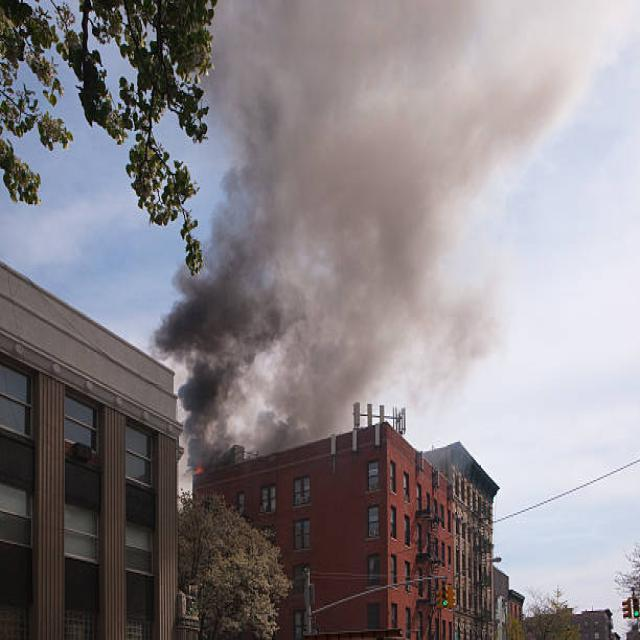Fire: (193, 462, 204, 474)
Smoke: (148, 0, 500, 471)
